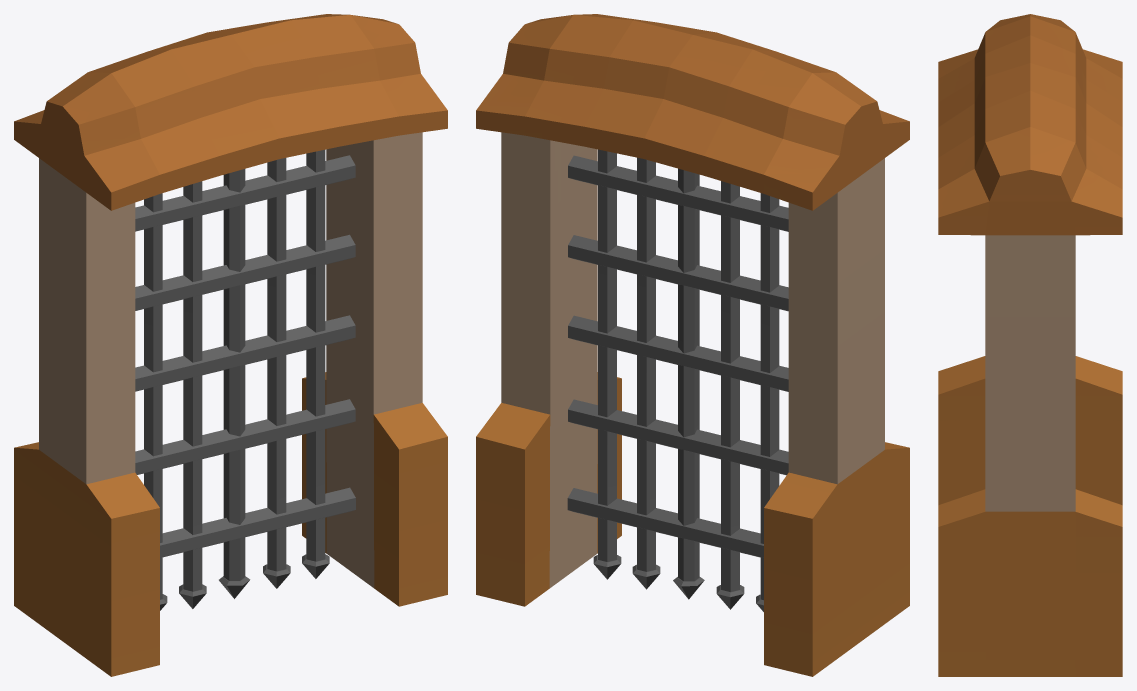
The model's file is Gate_archway_B.fbx.
3 views of the same model, side by side, from view 1: azimuth 30°, elevation 25°; view 2: azimuth 150°, elevation 25°; view 3: azimuth 270°, elevation 25° (orthographic). The views are drawn at different scales.
Visible parts, largest first — view 1: Gate_archway_B, Gate_archway_door.001; view 2: Gate_archway_B, Gate_archway_door.001; view 3: Gate_archway_B.
Boxes of the visible parts, <box> form: Gate_archway_B: <box>14,14,447,676</box>; Gate_archway_door.001: <box>135,149,355,610</box>; Gate_archway_B: <box>476,14,909,676</box>; Gate_archway_door.001: <box>567,149,788,611</box>; Gate_archway_B: <box>938,14,1122,676</box>.
Bounding box in the file's own units: 200 × 321 × 100.
